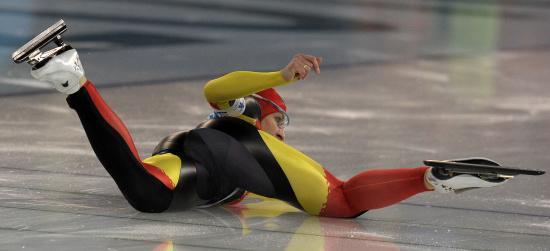Fall-Detected: (7, 24, 531, 225)
